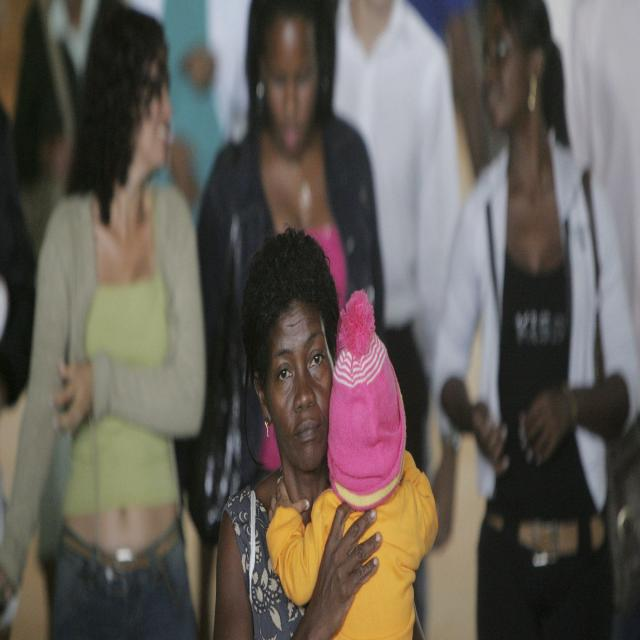body: (427, 0, 639, 639), (0, 0, 209, 639), (196, 1, 388, 556), (206, 223, 422, 640), (330, 1, 466, 554), (265, 291, 439, 640), (0, 0, 100, 406), (127, 0, 256, 198), (434, 0, 509, 189), (607, 421, 637, 634)
